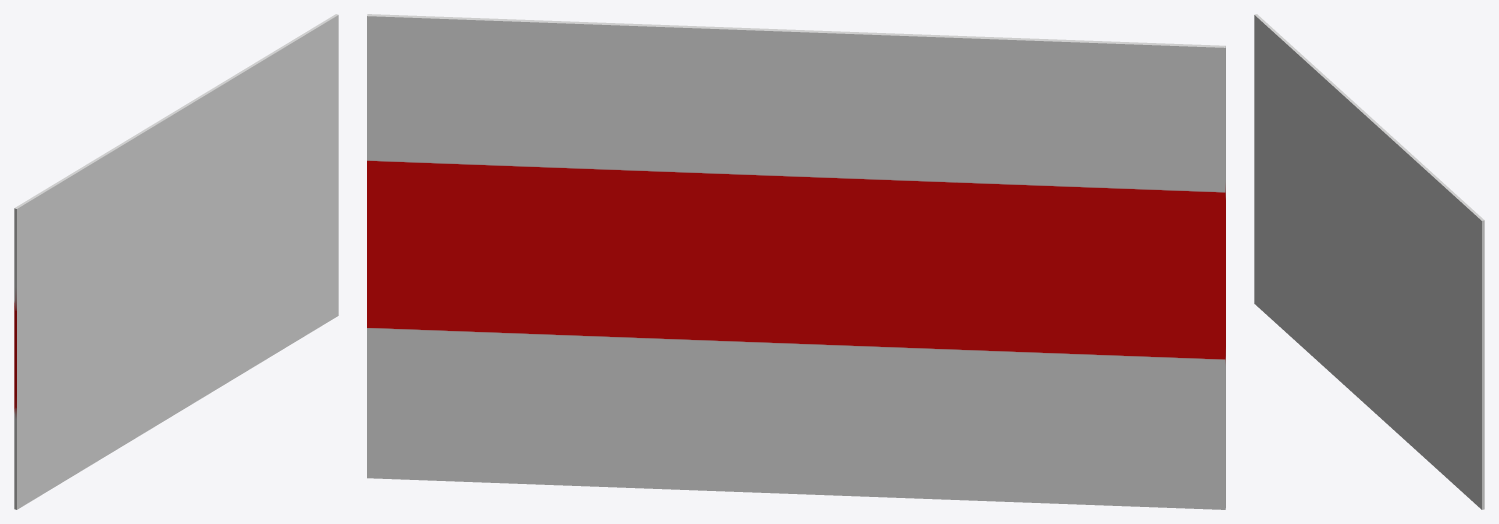
Rendered from flag.gltf.
The picture shows the model from 3 angles, left to right: view 1: azimuth 30°, elevation 25°; view 2: azimuth 150°, elevation 25°; view 3: azimuth 270°, elevation 25°; orthographic projection. The views are drawn at different scales.
Size of the model in its own units: 3.07 by 2 by 1.45.
Materials: 1 (1 with a texture image).
